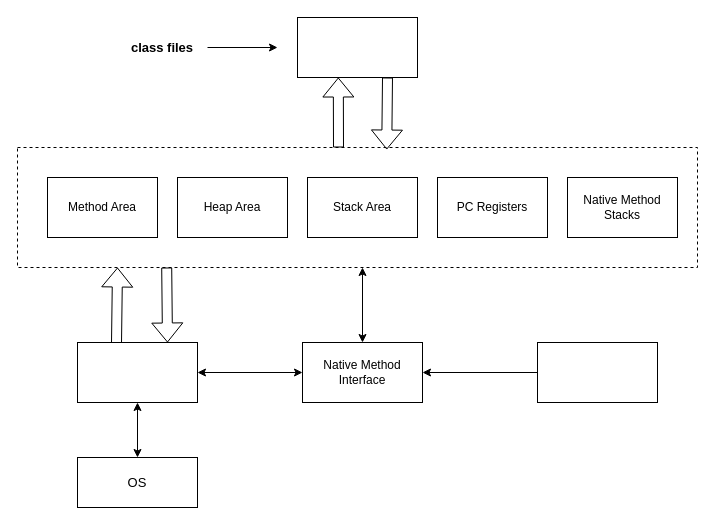
Image size: 715x525. Some labels were removed from this diagram. The shapes that lost their labels are listed below. From the top down, each one's centre as x and y in pixels, then its label:
the point at 357,47: ClassLoader sub-system
the point at 137,372: Execution Engine
the point at 597,372: Native Method Libraries
